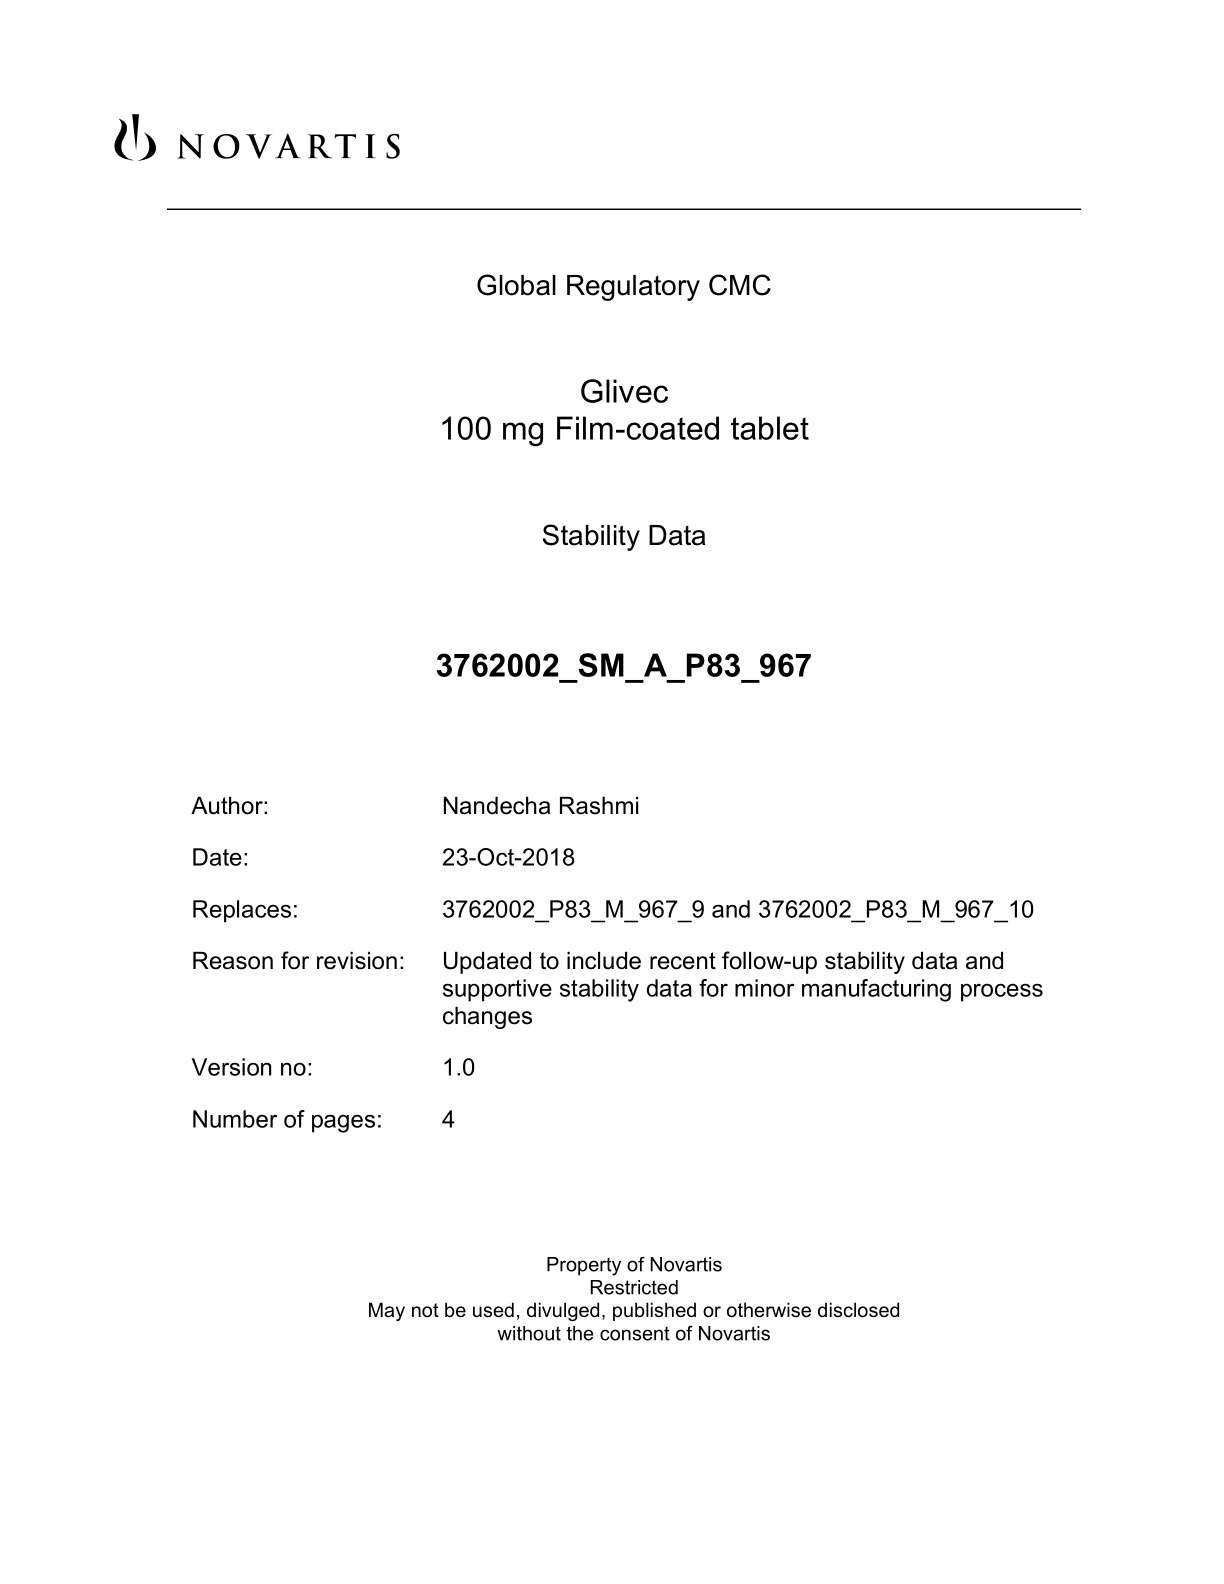nolines: (183, 791, 1049, 1137)
